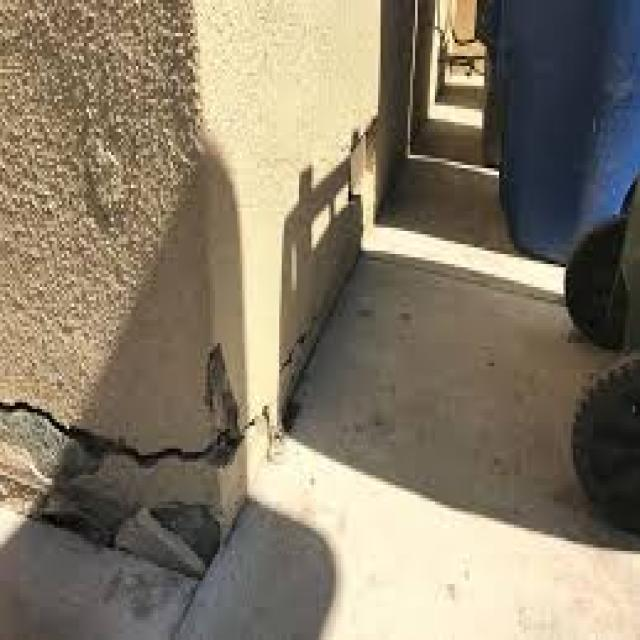Crack: (0, 392, 247, 472)
